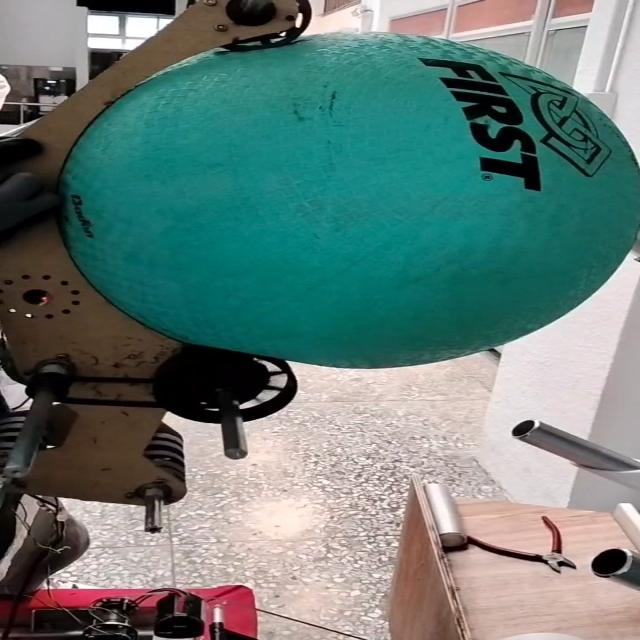ALGAE: (54, 32, 640, 370)
